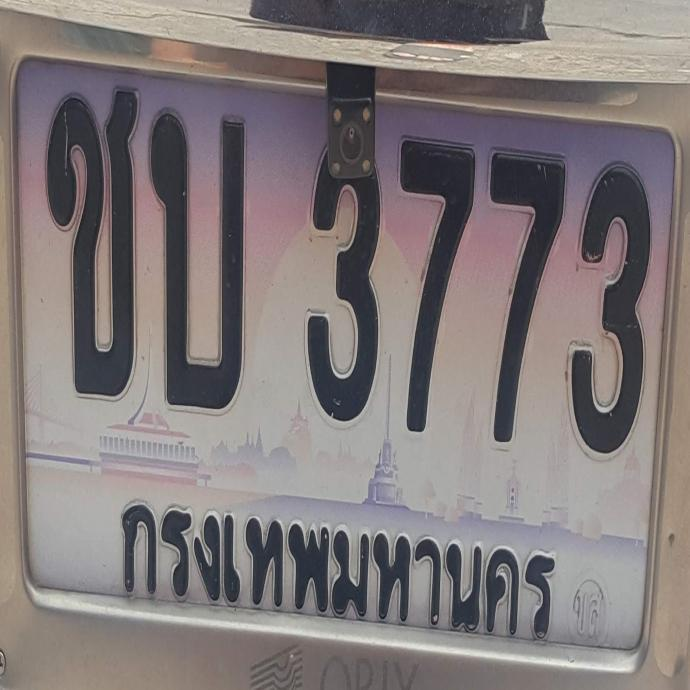3: (558, 157, 661, 459), (290, 153, 387, 426)
7: (466, 147, 570, 447), (392, 129, 481, 435)
A10: (31, 72, 149, 401)
A26: (139, 98, 257, 415)
BKK: (93, 465, 570, 638)
